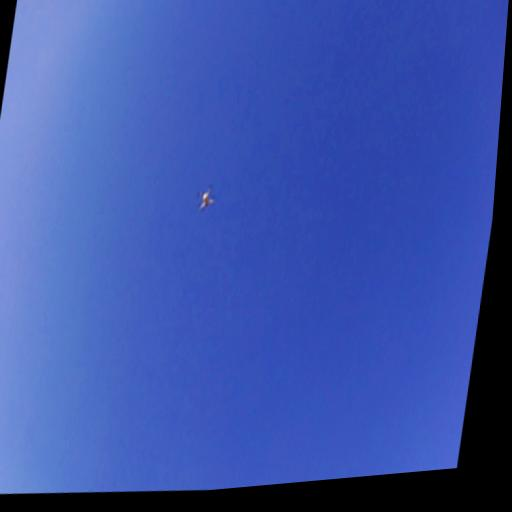drones: (190, 178, 222, 223)
